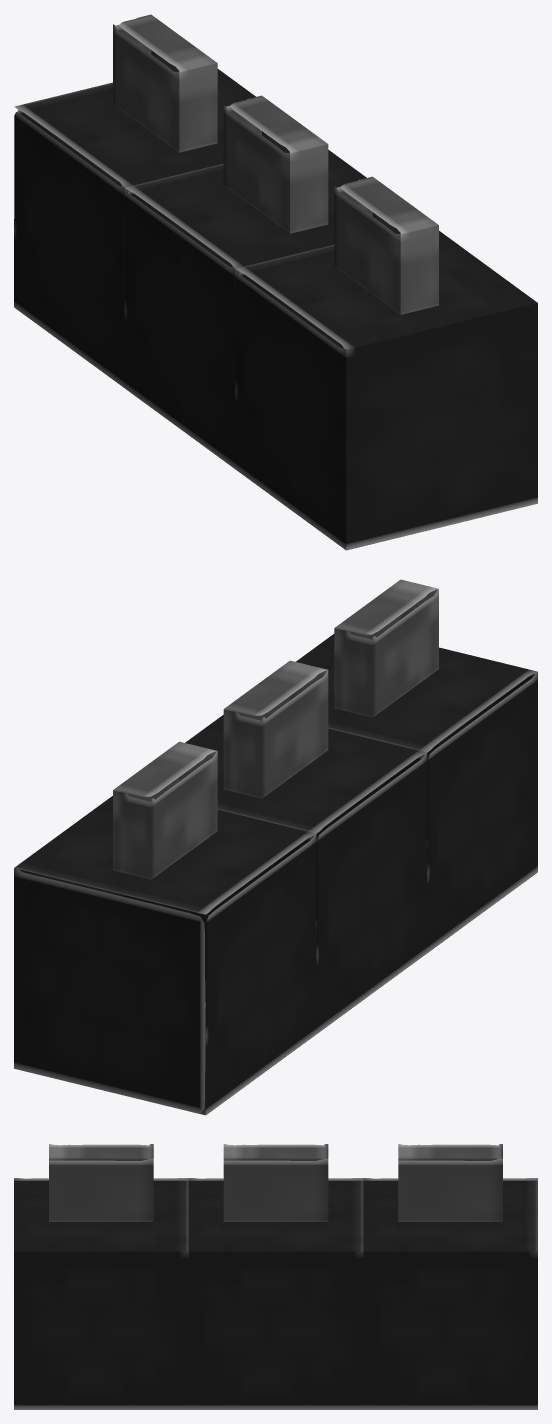
The model's file is cola.obj.
3 views of the same model, one above another, from view 1: azimuth 30°, elevation 25°; view 2: azimuth 150°, elevation 25°; view 3: azimuth 270°, elevation 25° (orthographic). The views are drawn at different scales.
Visible parts, largest first — view 1: Enderdragon_Malla; view 2: Enderdragon_Malla; view 3: Enderdragon_Malla.
Boxes of the visible parts, x1,y1,x2,y2 form: Enderdragon_Malla: (14,14,537,550); Enderdragon_Malla: (14,579,537,1115); Enderdragon_Malla: (14,1144,537,1409).
Size of the model in its own units: 1.59 by 2.23 by 4.77.
Materials: 1 (1 with a texture image).
